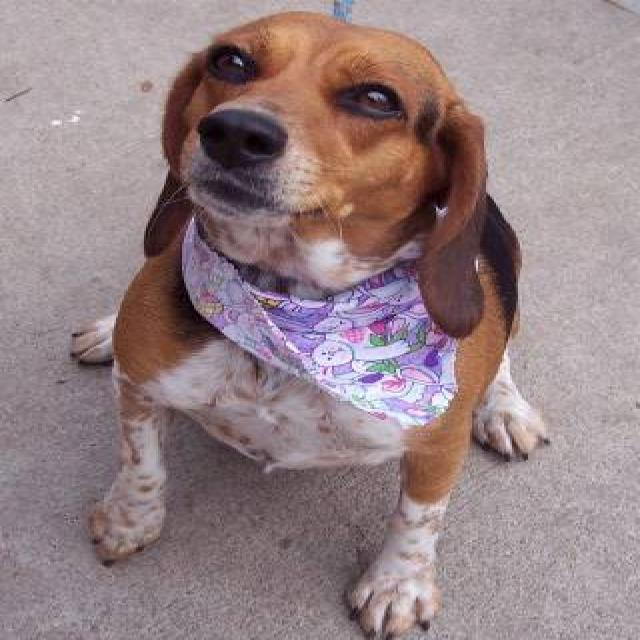dog: (68, 8, 550, 638)
